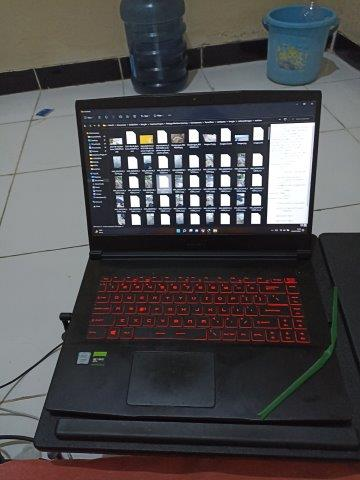sedotan: (260, 288, 338, 418)
